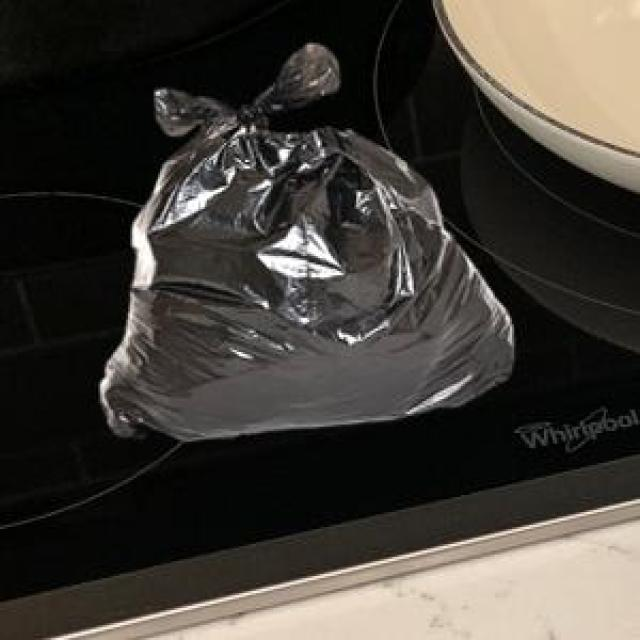waste: (100, 44, 512, 441)
